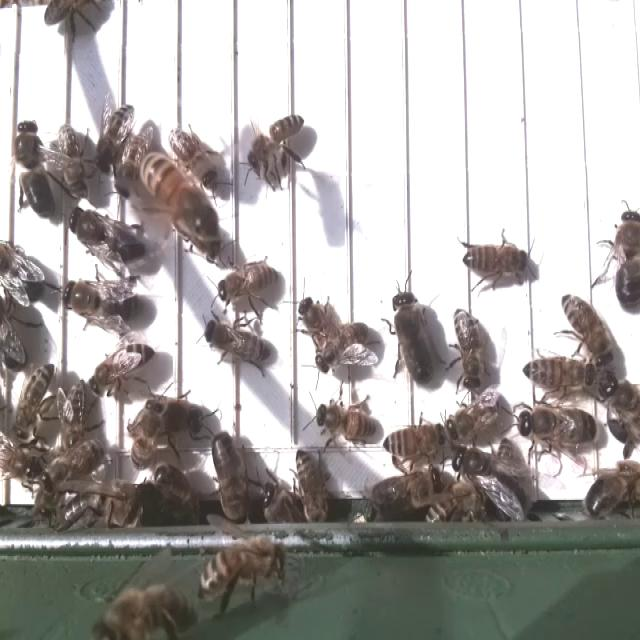Drone: (66, 204, 146, 269), (390, 284, 436, 388), (13, 116, 56, 221), (518, 403, 599, 458), (60, 278, 141, 330), (612, 203, 640, 315)
Worker: (560, 291, 620, 362), (86, 340, 157, 398), (202, 315, 274, 371), (246, 111, 305, 178), (10, 361, 56, 442), (445, 388, 509, 445), (168, 122, 219, 192), (91, 100, 137, 177), (520, 352, 595, 397), (312, 319, 370, 376), (214, 258, 278, 308), (310, 400, 379, 446), (452, 303, 485, 396), (461, 238, 528, 282), (380, 421, 445, 463)
